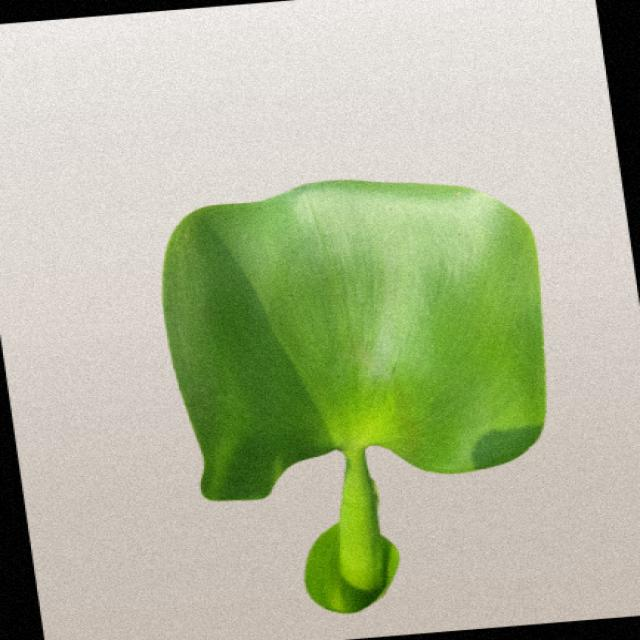daun sehat: (165, 181, 545, 613)
